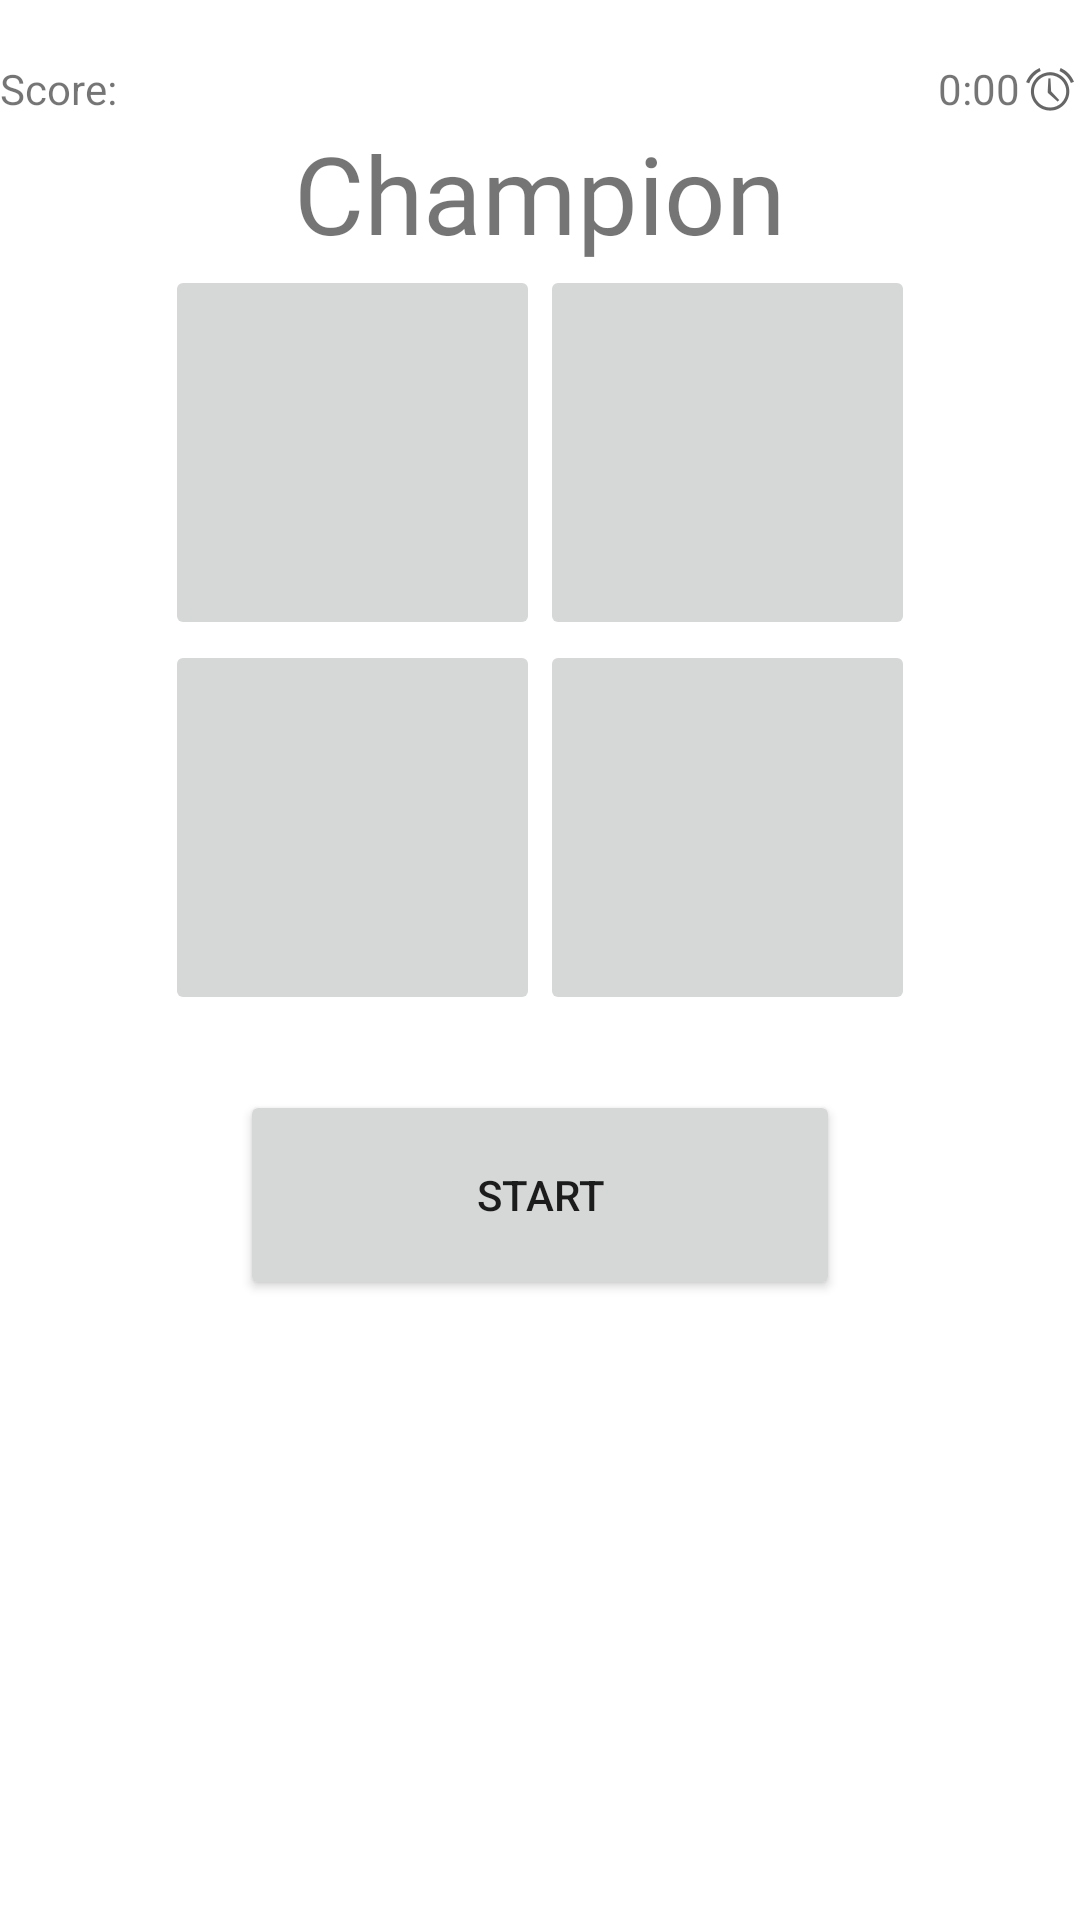

Icon click points for this 1080*1920 phone screenshot, format point (x, y):
lock idle alarm: point (1050, 89)
